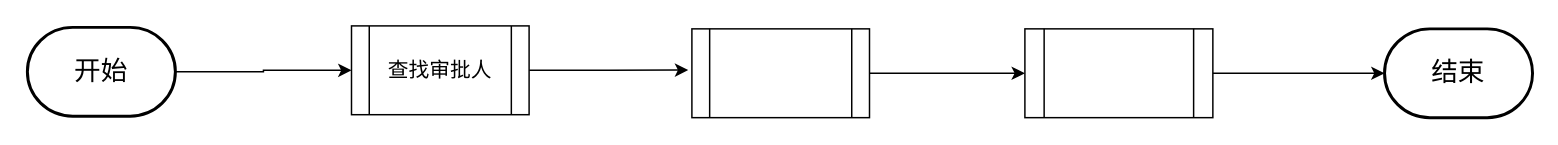
The diagram is 1558 pixels wide and 145 high, and some of its shapes have lost their labels. The centre of each missing label's shape, as x and y in pixels:
发起流程 记录申诉记录表: pixel 1118 72
流程内容组装: pixel 780 72
